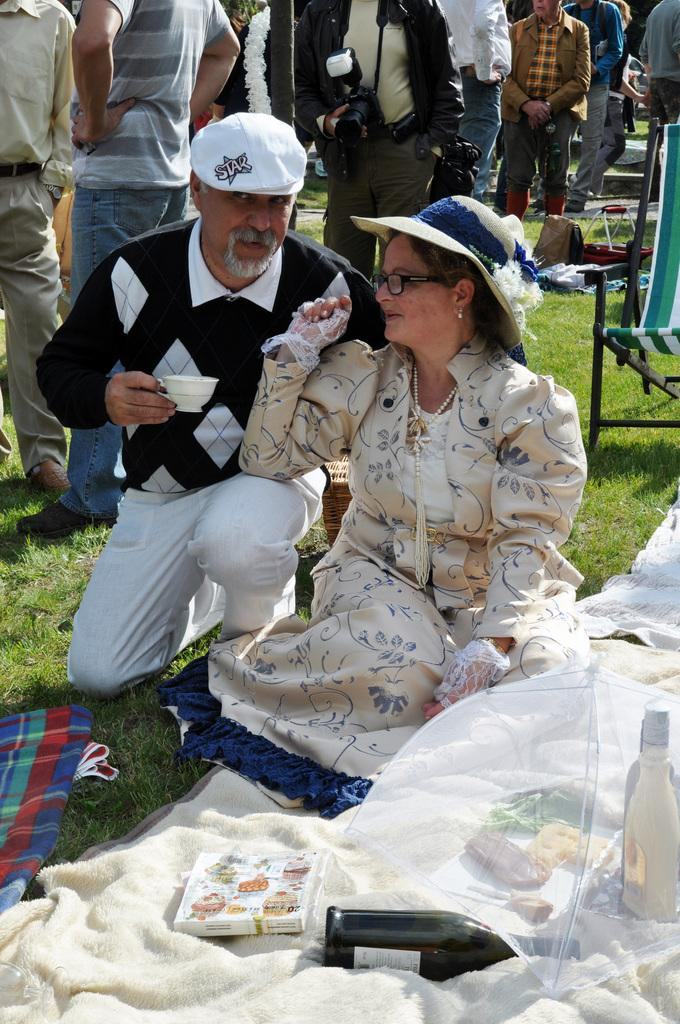Hat: (349, 191, 544, 350), (191, 108, 303, 194)
